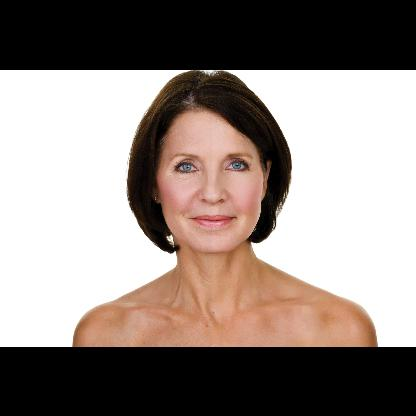Female: (154, 102, 270, 250)
